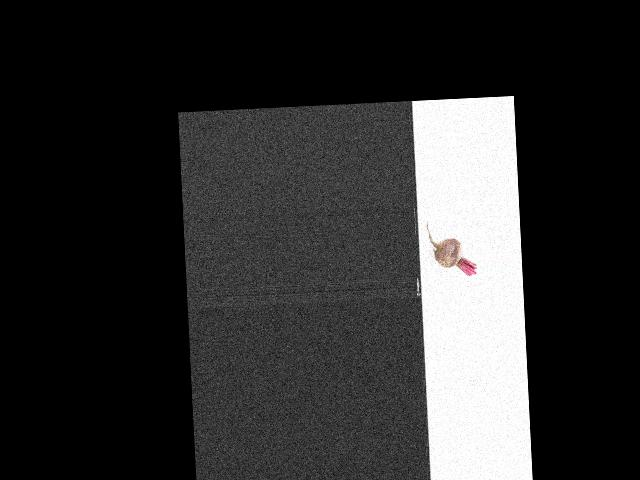beet: (426, 219, 476, 277)
